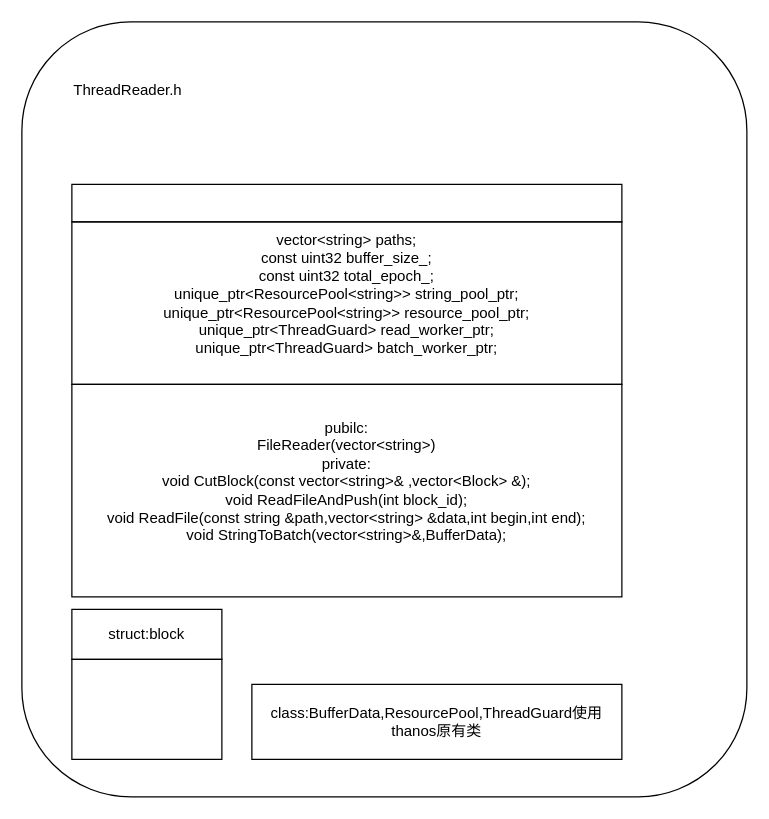
Image size: 769x819. Some labels were removed from this diagram. Each missing label, with the centre of its shape:
"class:FileReader" belongs at [346,202].
"int begin_file; int end_file; int begin_pos; int end_pos" belongs at [146,708].
